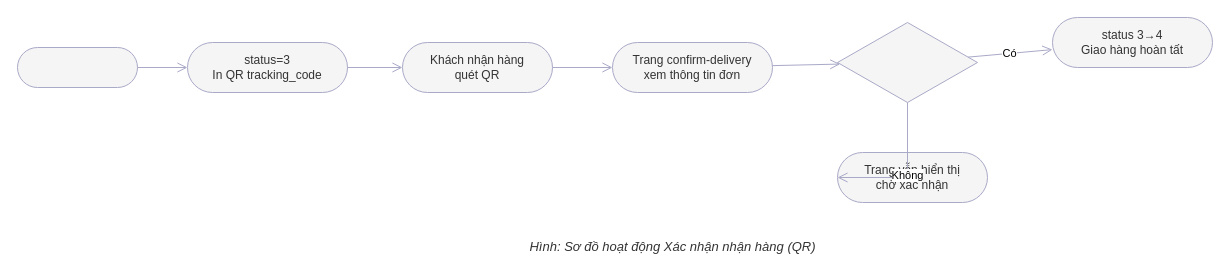
The diagram is 1230 pixels wide and 280 high, and some of its shapes have lost their labels. Here are the shapes that lost their labels. From the top down, the box of each, then its label:
(16, 46, 138, 88): Admin xuất kho
(836, 22, 978, 102): Bấm Xác nhận?
